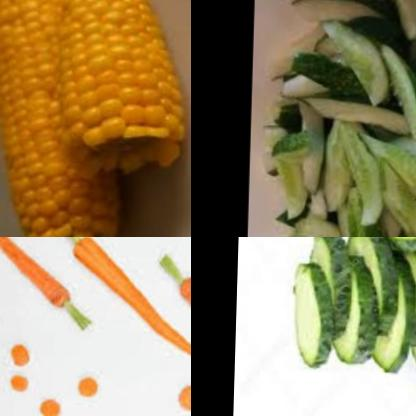carrot: (67, 237, 191, 362), (0, 237, 89, 318), (161, 260, 191, 358), (75, 373, 109, 404), (38, 390, 65, 416), (7, 340, 32, 368), (4, 371, 34, 394), (172, 379, 191, 414), (0, 308, 9, 336)
corn: (0, 0, 120, 237), (42, 0, 191, 186)
cucumber: (266, 11, 416, 237), (283, 237, 416, 381)
